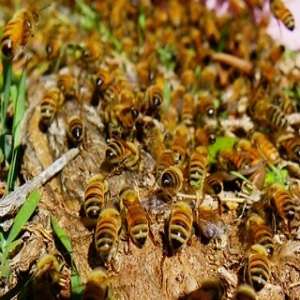bee: (122, 189, 149, 248), (170, 202, 192, 252), (83, 174, 104, 219), (40, 86, 60, 131), (271, 1, 295, 32), (68, 114, 83, 145)
